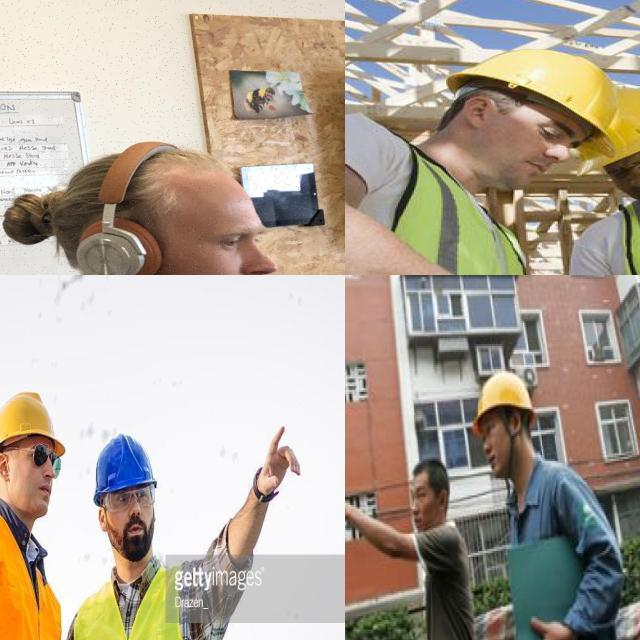Ear-protection: (45, 214, 182, 275)
No_Ear-Protection: (444, 94, 507, 131), (94, 504, 110, 537), (0, 450, 12, 484), (439, 490, 447, 511)
No_Glasses: (504, 103, 588, 148), (198, 220, 277, 260), (605, 152, 640, 178), (411, 486, 429, 501)
face_nomask: (421, 108, 569, 192), (0, 432, 59, 522), (98, 480, 162, 558), (411, 502, 442, 532)
glasses: (104, 482, 158, 516), (28, 440, 63, 480)
hand_noglove: (248, 421, 303, 506)
head_helmet: (447, 50, 616, 131), (579, 89, 640, 167), (0, 390, 68, 455), (88, 432, 164, 488), (473, 370, 534, 433)
head_nohelmet: (412, 458, 450, 496)
person: (79, 432, 212, 640), (0, 389, 65, 640)
vest: (75, 584, 200, 640), (0, 523, 55, 640)
